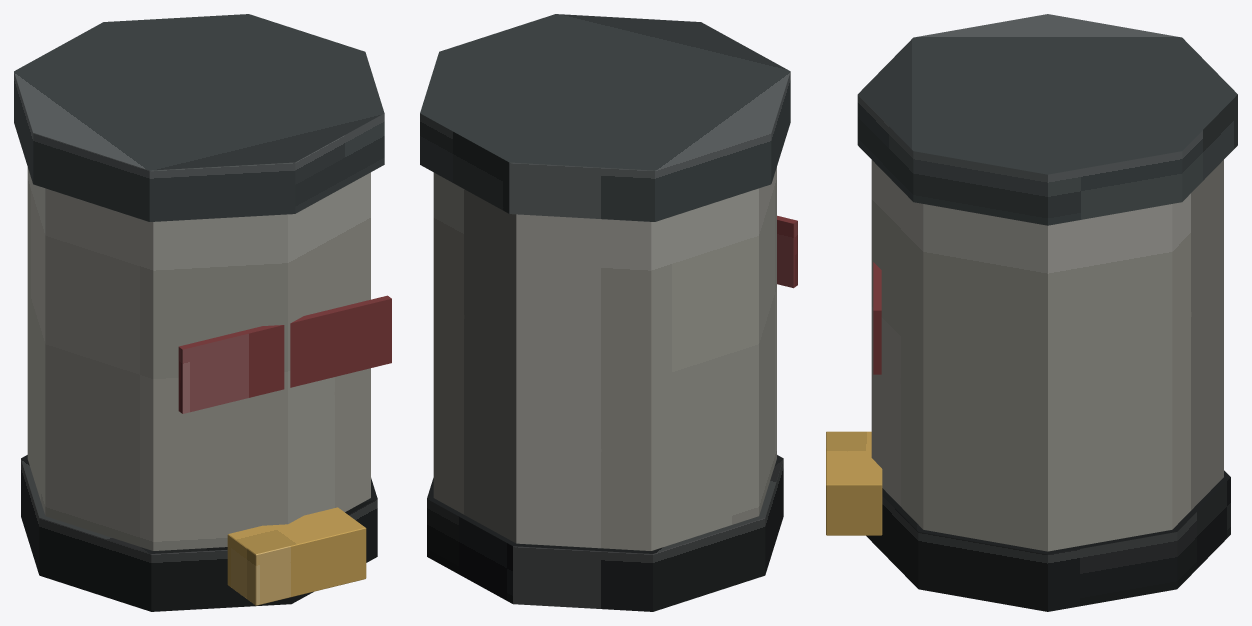
The model's file is trash_bin.glb.
3 renders of one model, left to right at view 1: azimuth 30°, elevation 25°; view 2: azimuth 150°, elevation 25°; view 3: azimuth 270°, elevation 25°, orthographic.
Visible parts, largest first — view 1: BinBody, BinLid, BinBottom, BinBandFront, FootPedal; view 2: BinBody, BinLid, BinBottom, BinBandFront; view 3: BinBody, BinLid, BinBottom, FootPedal, BinBandFront.
Part boxes in pixels (left/top/right/bottom): BinBody: left=27, top=167, right=370, bottom=550; BinLid: left=14, top=14, right=384, bottom=221; BinBottom: left=21, top=455, right=377, bottom=611; BinBandFront: left=178, top=295, right=391, bottom=413; FootPedal: left=227, top=507, right=366, bottom=605; BinBody: left=433, top=167, right=776, bottom=550; BinLid: left=420, top=14, right=790, bottom=221; BinBottom: left=427, top=455, right=783, bottom=611; BinBandFront: left=777, top=215, right=797, bottom=288; BinBody: left=871, top=160, right=1223, bottom=551; BinLid: left=857, top=14, right=1237, bottom=225; BinBottom: left=866, top=470, right=1230, bottom=611; FootPedal: left=826, top=431, right=882, bottom=535; BinBandFront: left=873, top=262, right=881, bottom=374.
Bounding box in the file's own units: 0.54 × 0.69 × 0.585.
1 material, 1 textured.
